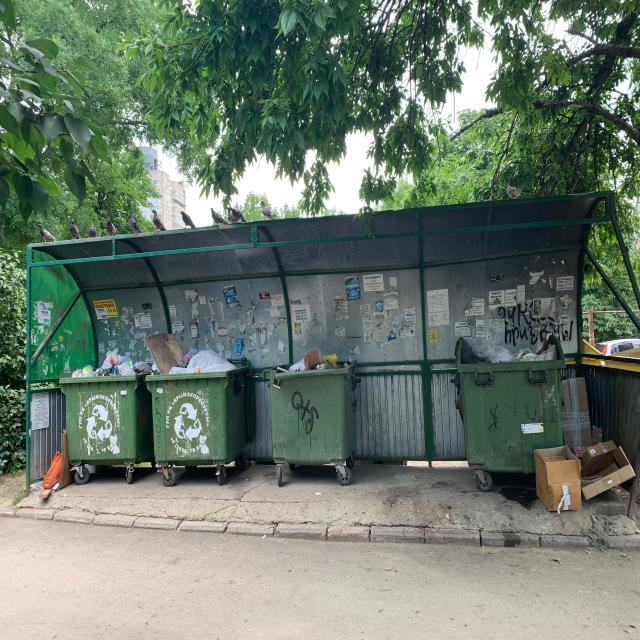bin: (60, 361, 254, 465), (458, 357, 565, 473), (269, 364, 357, 463)
plastic: (534, 376, 635, 515), (72, 328, 237, 376), (37, 430, 71, 498), (461, 338, 557, 359), (280, 347, 344, 369)
